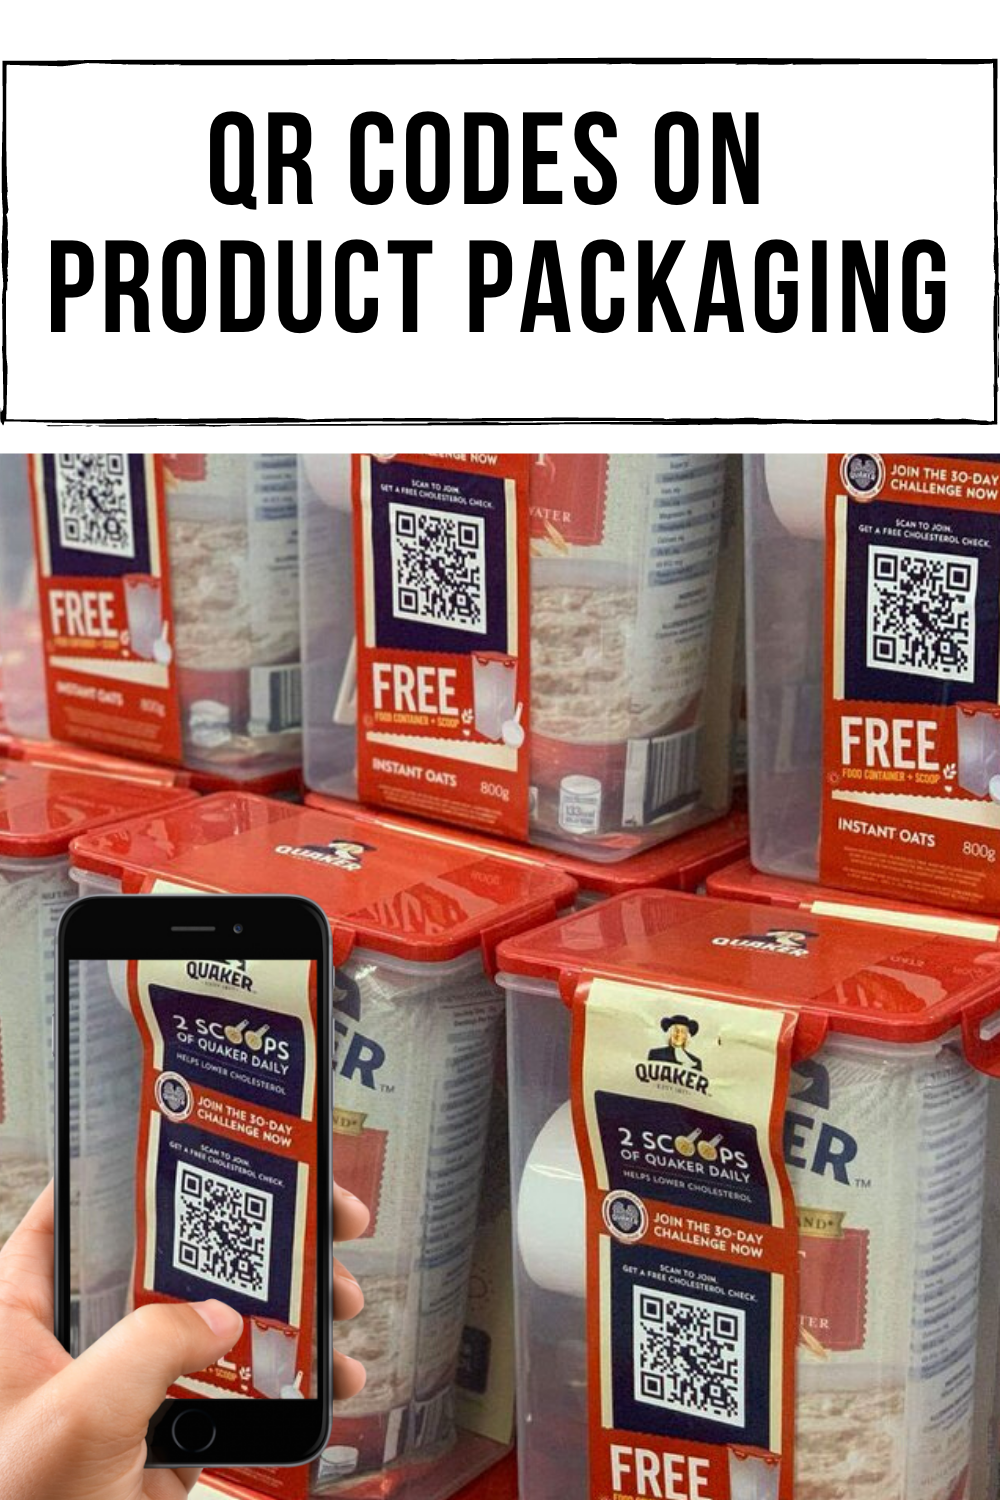qr_code: (628, 1278, 750, 1433), (863, 540, 978, 686), (175, 1156, 275, 1305), (388, 498, 488, 640)
